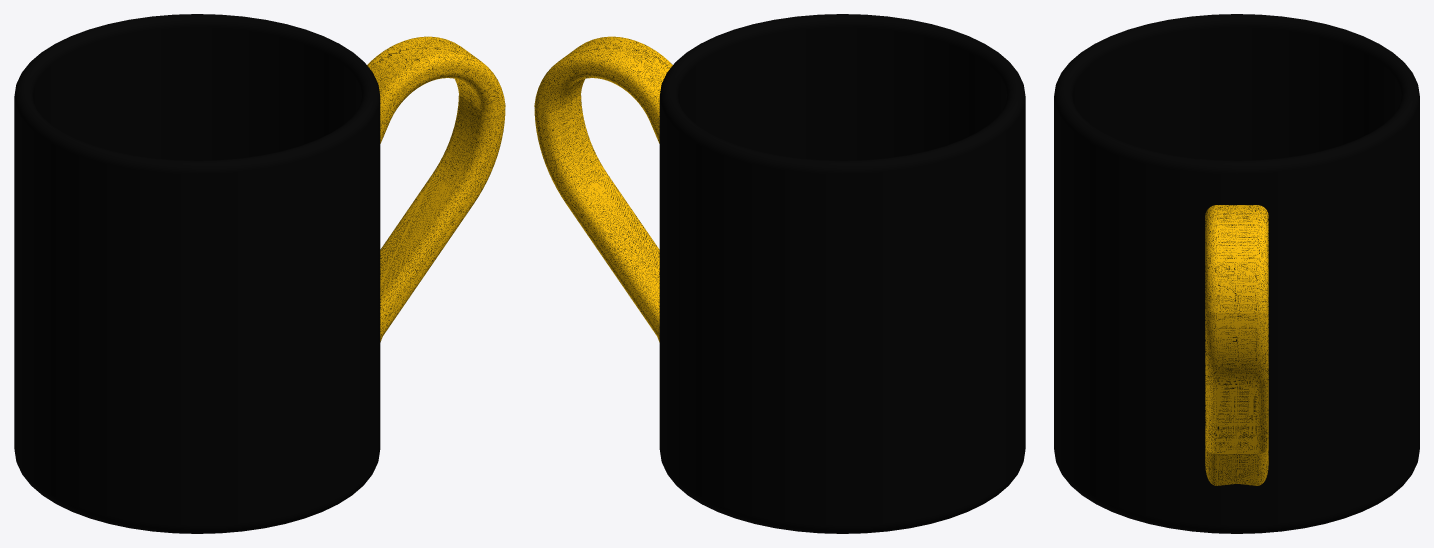
Rendered from mug_18_origin_gt_1.dae.
3 views of the same model, side by side, from view 1: azimuth 30°, elevation 25°; view 2: azimuth 150°, elevation 25°; view 3: azimuth 270°, elevation 25° (orthographic).
Parts seen in each view (by area): view 1: Mug, group_0; view 2: Mug, group_0; view 3: Mug, group_0.
Boxes of the visible parts, bbox=[...] form: Mug: bbox=[14, 14, 380, 533]; group_0: bbox=[367, 36, 505, 342]; Mug: bbox=[659, 14, 1025, 533]; group_0: bbox=[534, 36, 672, 342]; Mug: bbox=[1054, 14, 1419, 533]; group_0: bbox=[1205, 205, 1268, 485].
Bounding box in the file's own units: 4.52 × 3.15 × 3.54.
